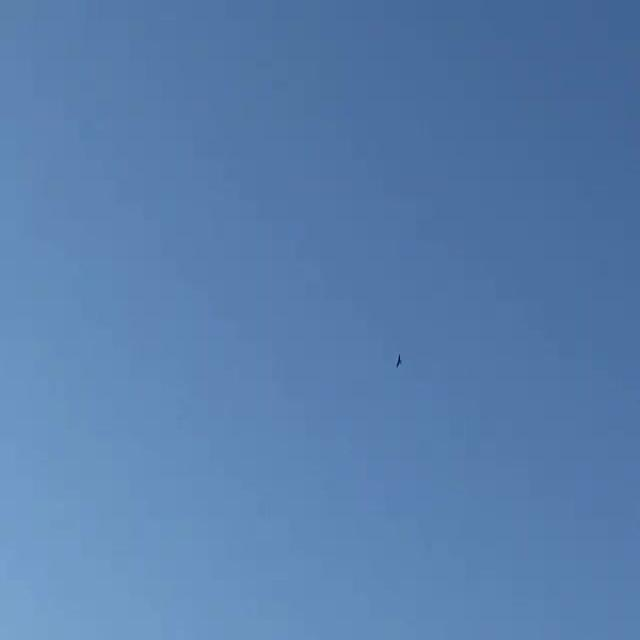bird: (393, 353, 408, 370)
